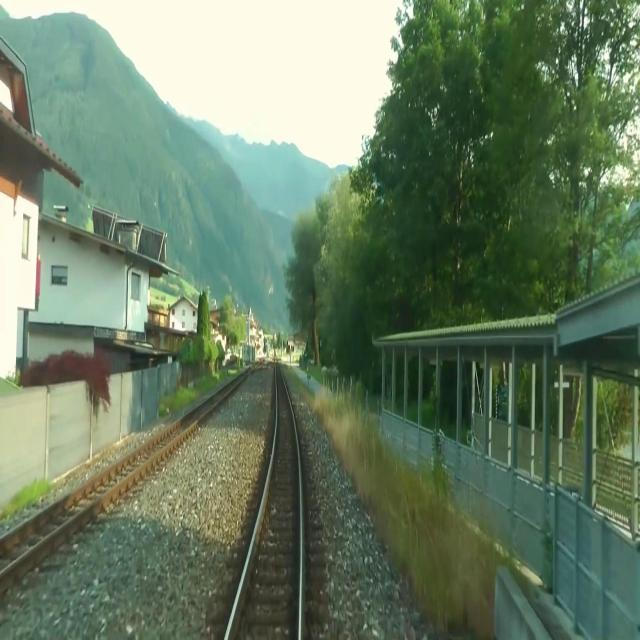rail-track: (0, 382, 233, 567), (229, 366, 298, 639)
